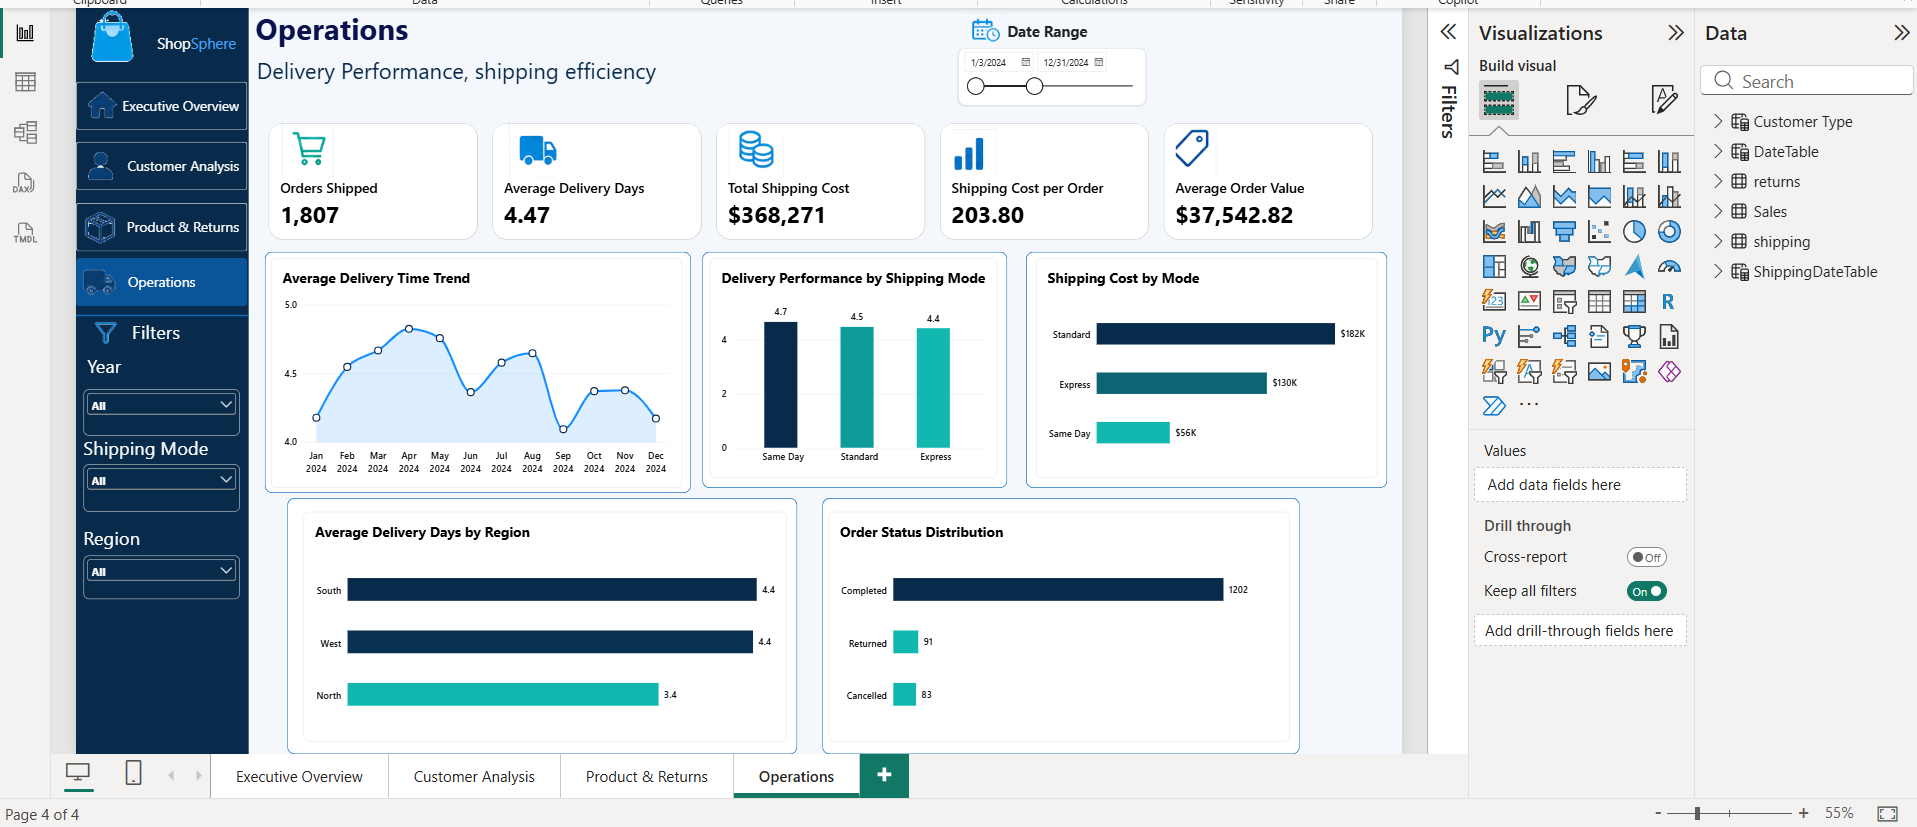

This screenshot's page, from the dashboard's own definition file:
{"tool":"powerbi","page":{"name":"Operations","canvas":[1920,1080],"ordinal":3},"visuals":[{"type":"cardVisual","fields":{"Data":["shipping.Orders Shipped","shipping.Average Delivery Days","shipping.Total Shipping Cost","shipping.Shipping Cost per Order","Sales.Average Order Value"]},"box":[267.8,155.6,1623.3,190],"z":0},{"type":"shape","box":[0,0,250,1080],"z":1000},{"type":"textbox","box":[249.7,0,1634.1,153.8],"z":2000},{"type":"shape","box":[273.3,352.9,617.1,349.3],"z":3000},{"type":"shape","box":[906.6,352.9,441.6,342],"z":4000},{"type":"slicer","fields":{"Values":["ShippingDateTable.Shipping Year"]},"box":[10.9,551.9,226.2,67],"z":5000},{"type":"slicer","fields":{"Values":["shipping.shipping_mode"]},"box":[10.9,660.5,226.2,68.8],"z":6000},{"type":"slicer","fields":{"Values":["Sales.region"]},"box":[10.9,792.6,226.2,63.3],"z":8000},{"type":"shape","box":[1375.3,352.9,523,342],"z":9000},{"type":"shape","box":[305.8,709.4,738.3,371],"z":10000},{"type":"shape","box":[1080.4,709.4,691.3,371],"z":11000},{"type":"shape","box":[0,432.5,249.7,25.3],"z":12000},{"type":"image","box":[10.9,445.2,65.1,50.7],"z":13000},{"type":"textbox","box":[10.9,450.6,188.2,48.9],"z":14000},{"type":"textbox","box":[16.3,499.5,85.1,45.2],"z":15000},{"type":"textbox","box":[10.9,618.9,211.7,43.4],"z":16000},{"type":"textbox","box":[10.9,749.2,114,43.4],"z":18000},{"type":"image","box":[1277.6,0,70.6,57.9],"z":19000},{"type":"image","box":[0,0,106.4,89],"z":20000},{"type":"textbox","box":[99.5,0,150.2,88.7],"z":21000},{"type":"slicer","fields":{"Values":["ShippingDateTable.Date"]},"box":[1277.6,57.9,271.4,83.2],"z":22000},{"type":"textbox","box":[1348.2,0,200.9,57.9],"z":23000},{"type":"lineChart","title":"Average Delivery Time Trend","fields":{"Y":["shipping.Average Delivery Days"],"Category":["ShippingDateTable.Year Month"]},"box":[282.3,361.9,595.4,333],"z":24000},{"type":"columnChart","title":"Delivery Performance by Shipping Mode","fields":{"Category":["shipping.shipping_mode"],"Y":["shipping.Average Delivery Days"]},"box":[917.5,361.9,416.2,318.5],"z":25000},{"type":"barChart","title":"Shipping Cost by Mode","fields":{"Category":["shipping.shipping_mode"],"Y":["shipping.Total Shipping Cost"]},"box":[1389.8,361.9,494,318.5],"z":26000},{"type":"clusteredBarChart","title":"Average Delivery Days by Region","fields":{"Category":["Sales.region"],"Y":["shipping.Average Delivery Days by Region"]},"box":[329.4,729.3,700.3,333],"z":27000},{"type":"clusteredBarChart","title":"Order Status Distribution","fields":{"Category":["Sales.order_status"],"Y":["Sales.Total Orders"]},"box":[1089.4,729.3,667.8,333],"z":28000},{"type":"pageNavigator","box":[0,106.8,248,70],"z":29000},{"type":"pageNavigator","box":[0,193.6,248,70],"z":30000},{"type":"pageNavigator","box":[0,282.3,248,70],"z":31000},{"type":"pageNavigator","box":[0,361.9,248,70],"z":32000},{"type":"image","box":[5.4,106.8,63.3,70.6],"z":33000},{"type":"image","box":[1.8,193.6,67,70.6],"z":34000},{"type":"image","box":[1.8,282.3,67,70.6],"z":35000},{"type":"image","box":[0,361.9,59.7,70.6],"z":36000}]}

Visuals, with their boxes on the page's 1920x1080 design canvas (x1, y1, x2, y2). These are canvas units, not pixel positions in the 1917x827 screenshot, which may show the page scaled, cropped or inside an application window:
cardVisual - shipping.Orders Shipped x shipping.Average Delivery Days: bbox(268, 156, 1891, 346)
shape: bbox(0, 0, 250, 1080)
textbox: bbox(250, 0, 1884, 154)
shape: bbox(273, 353, 890, 702)
shape: bbox(907, 353, 1348, 695)
slicer - ShippingDateTable.Shipping Year: bbox(11, 552, 237, 619)
slicer - shipping.shipping_mode: bbox(11, 660, 237, 729)
slicer - Sales.region: bbox(11, 793, 237, 856)
shape: bbox(1375, 353, 1898, 695)
shape: bbox(306, 709, 1044, 1080)
shape: bbox(1080, 709, 1772, 1080)
shape: bbox(0, 432, 250, 458)
image: bbox(11, 445, 76, 496)
textbox: bbox(11, 451, 199, 500)
textbox: bbox(16, 500, 101, 545)
textbox: bbox(11, 619, 223, 662)
textbox: bbox(11, 749, 125, 793)
image: bbox(1278, 0, 1348, 58)
image: bbox(0, 0, 106, 89)
textbox: bbox(100, 0, 250, 89)
slicer - ShippingDateTable.Date: bbox(1278, 58, 1549, 141)
textbox: bbox(1348, 0, 1549, 58)
"Average Delivery Time Trend" lineChart: bbox(282, 362, 878, 695)
"Delivery Performance by Shipping Mode" columnChart: bbox(918, 362, 1334, 680)
"Shipping Cost by Mode" barChart: bbox(1390, 362, 1884, 680)
"Average Delivery Days by Region" clusteredBarChart: bbox(329, 729, 1030, 1062)
"Order Status Distribution" clusteredBarChart: bbox(1089, 729, 1757, 1062)
pageNavigator: bbox(0, 107, 248, 177)
pageNavigator: bbox(0, 194, 248, 264)
pageNavigator: bbox(0, 282, 248, 352)
pageNavigator: bbox(0, 362, 248, 432)
image: bbox(5, 107, 69, 177)
image: bbox(2, 194, 69, 264)
image: bbox(2, 282, 69, 353)
image: bbox(0, 362, 60, 432)
